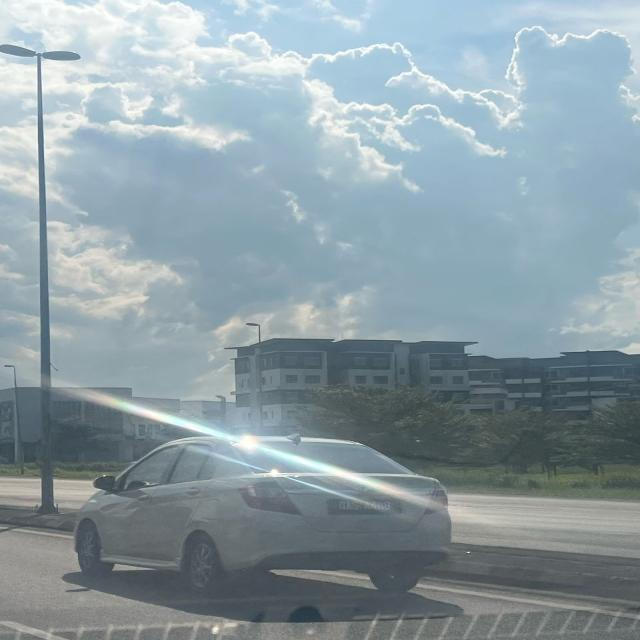PeroduaBezza: (72, 432, 453, 594)
